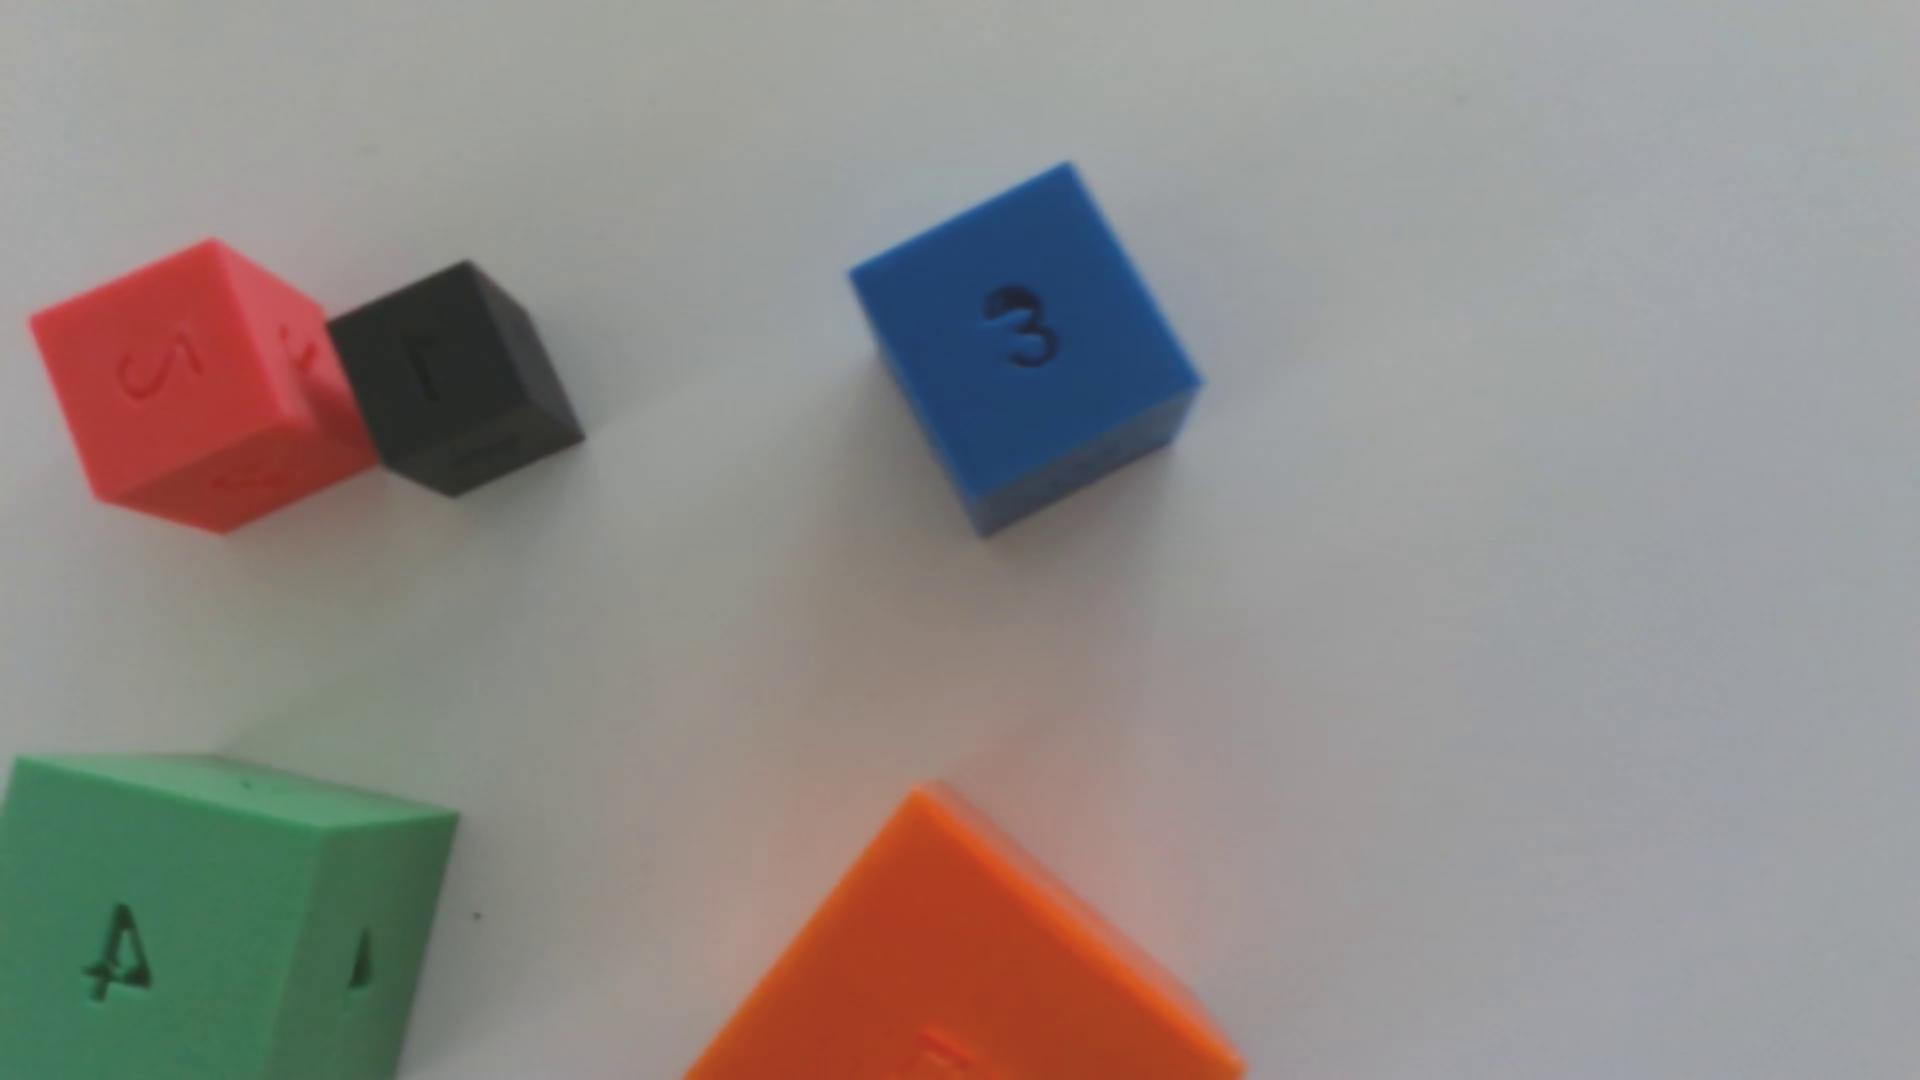black: (328, 262, 585, 498)
blue: (851, 165, 1200, 535)
green: (0, 756, 458, 1080)
orange: (686, 791, 1244, 1080)
red: (30, 241, 377, 535)
